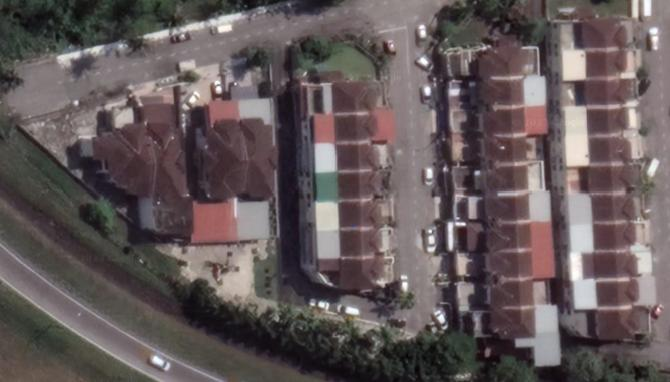building: (84, 103, 195, 219), (189, 118, 281, 206), (469, 33, 541, 76), (587, 305, 642, 344), (578, 161, 643, 194), (572, 16, 631, 52), (577, 73, 639, 107), (338, 254, 387, 296), (486, 304, 539, 342), (328, 78, 384, 112), (475, 159, 531, 193), (586, 189, 642, 222), (475, 130, 532, 162), (331, 138, 382, 173), (468, 74, 526, 104), (479, 189, 533, 221), (591, 276, 644, 308), (334, 197, 390, 227), (480, 218, 536, 248), (584, 131, 636, 163), (478, 247, 537, 275), (335, 170, 389, 200), (473, 103, 527, 133), (589, 249, 642, 278), (483, 276, 537, 304), (582, 103, 634, 132), (331, 111, 381, 140), (591, 220, 641, 248), (582, 46, 632, 74), (338, 226, 386, 255)
